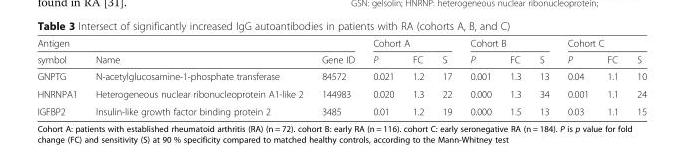table: (36, 36, 646, 116)
table column: (85, 36, 311, 116), (311, 36, 363, 116), (36, 36, 85, 116), (460, 36, 500, 116), (557, 36, 597, 116), (363, 36, 402, 116), (402, 36, 432, 116), (597, 36, 627, 116), (500, 36, 529, 116), (432, 36, 460, 116), (529, 36, 557, 116), (627, 36, 646, 116)
table column header: (36, 36, 646, 67)
table row: (36, 84, 646, 102), (36, 50, 646, 67), (36, 67, 646, 84), (36, 36, 646, 50), (36, 102, 646, 116)
table spanning cell: (36, 36, 363, 50), (363, 36, 460, 50), (460, 36, 557, 50), (557, 36, 646, 50)
